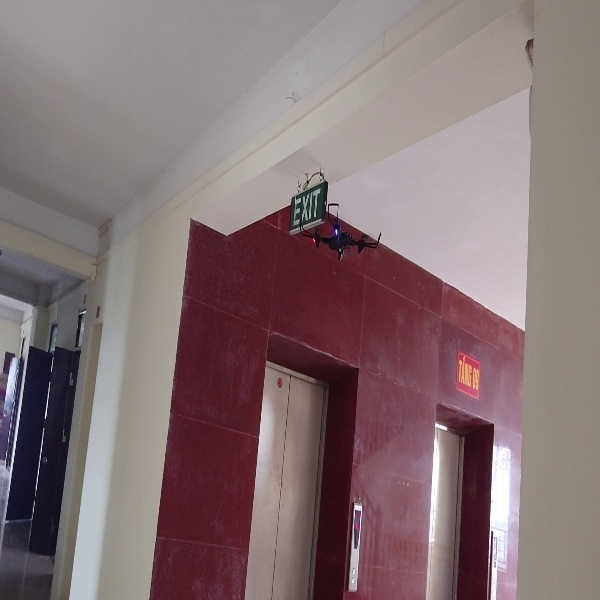drone: (298, 201, 383, 261)
